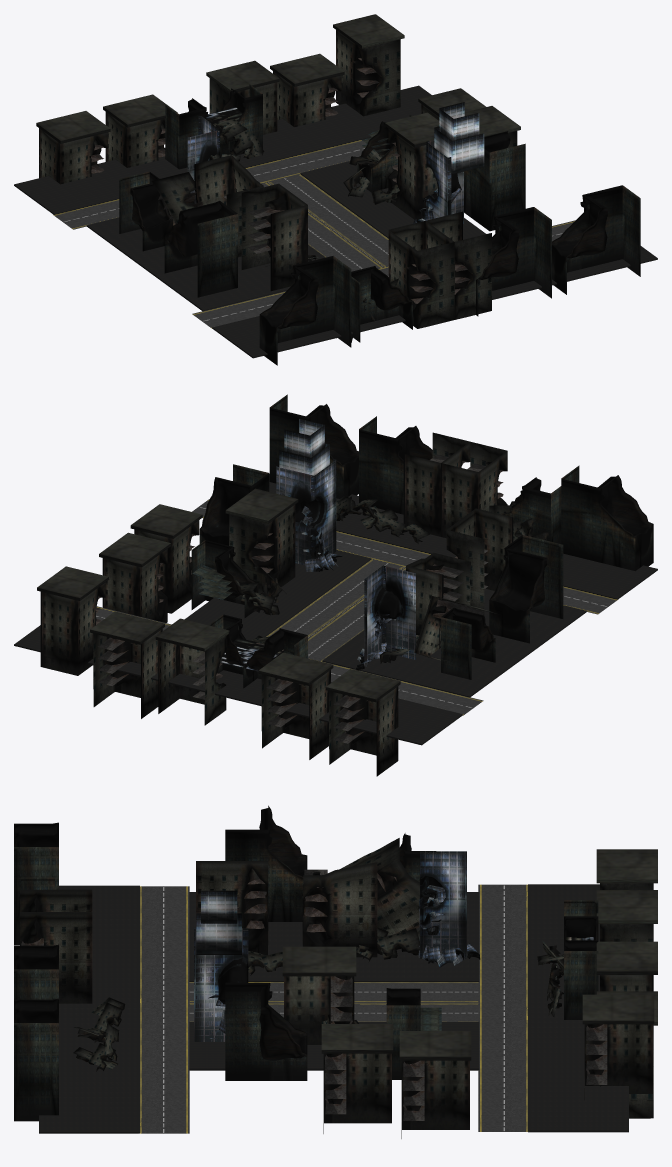
The model's file is postApocLevel.fbx.
3 renders of one model, top to bottom at view 1: azimuth 30°, elevation 25°; view 2: azimuth 150°, elevation 25°; view 3: azimuth 270°, elevation 25°, orthographic. The views are drawn at different scales.
Visible parts, largest first — view 1: pCube57, pCube56, pCube55, polySurface2412, polySurface2394, pCube44, polySurface2405, pCube53, pCube36, pCube52, polySurface2410, polySurface2411 (+23 smaller); view 2: pCube56, pCube36, pCube44, polySurface2412, polySurface2410, polySurface2402, polySurface2408, polySurface2411, polySurface2409, polySurface2407, pCube57, pCube39 (+23 smaller); view 3: pCube39, pCube57, pPlane4, pPlane27, polySurface2406, polySurface2407, pCube52, polySurface2412, polySurface2403, polySurface2402, pCube36, pCube55 (+23 smaller).
Boxes of the visible parts, bbox=[...] form: pCube57: bbox=[14, 85, 431, 214]; pCube56: bbox=[259, 256, 351, 365]; pCube55: bbox=[552, 185, 640, 294]; polySurface2412: bbox=[333, 14, 404, 116]; polySurface2394: bbox=[241, 183, 307, 291]; pCube44: bbox=[164, 200, 237, 297]; polySurface2405: bbox=[388, 221, 454, 328]; pCube53: bbox=[476, 207, 551, 316]; pCube36: bbox=[86, 217, 325, 311]; pCube52: bbox=[464, 131, 525, 231]; polySurface2410: bbox=[36, 111, 110, 184]; polySurface2411: bbox=[270, 53, 344, 126]; pCube56: bbox=[561, 465, 653, 571]; pCube36: bbox=[322, 588, 586, 697]; pCube44: bbox=[489, 535, 563, 643]; polySurface2412: bbox=[37, 566, 108, 675]; polySurface2410: bbox=[325, 669, 400, 776]; polySurface2402: bbox=[225, 488, 298, 594]; polySurface2408: bbox=[258, 652, 333, 759]; polySurface2411: bbox=[90, 611, 164, 718]; polySurface2409: bbox=[155, 618, 229, 725]; polySurface2407: bbox=[99, 532, 170, 622]; pCube57: bbox=[14, 625, 462, 745]; pCube39: bbox=[209, 474, 657, 599]; pCube39: bbox=[39, 885, 139, 1133]; pCube57: bbox=[528, 884, 628, 1132]; pPlane4: bbox=[138, 886, 189, 1133]; pPlane27: bbox=[478, 884, 528, 1131]; polySurface2406: bbox=[321, 1024, 393, 1133]; polySurface2407: bbox=[399, 1031, 471, 1138]; pCube52: bbox=[225, 982, 307, 1080]; polySurface2412: bbox=[582, 994, 654, 1099]; polySurface2403: bbox=[302, 862, 377, 957]; polySurface2402: bbox=[282, 946, 356, 1044]; pCube36: bbox=[189, 892, 479, 981]; pCube55: bbox=[14, 998, 58, 1121].
Size of the model in its own units: 1021 by 380 by 1116.
Materials: 3 (3 with a texture image).
